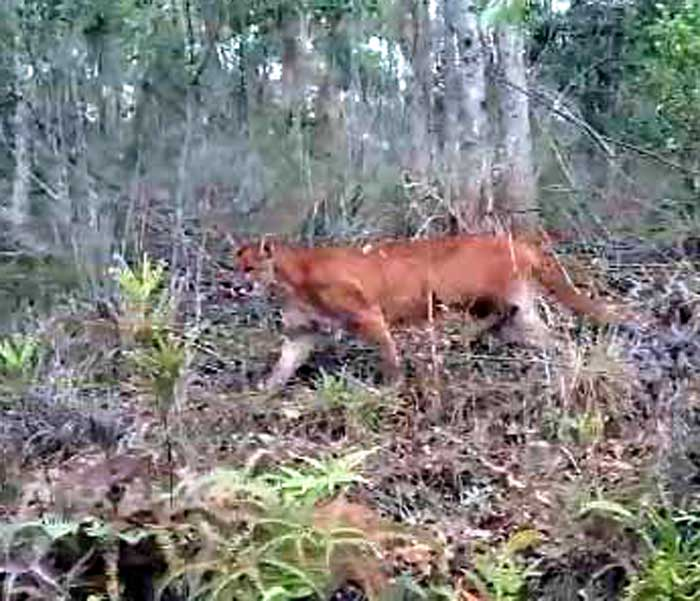OncaParda: (222, 227, 638, 395)
